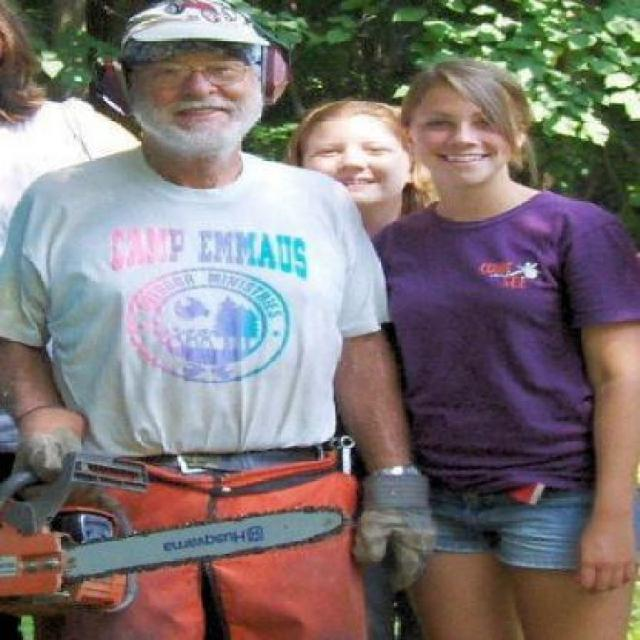Chainsaw: (0, 449, 354, 614)
